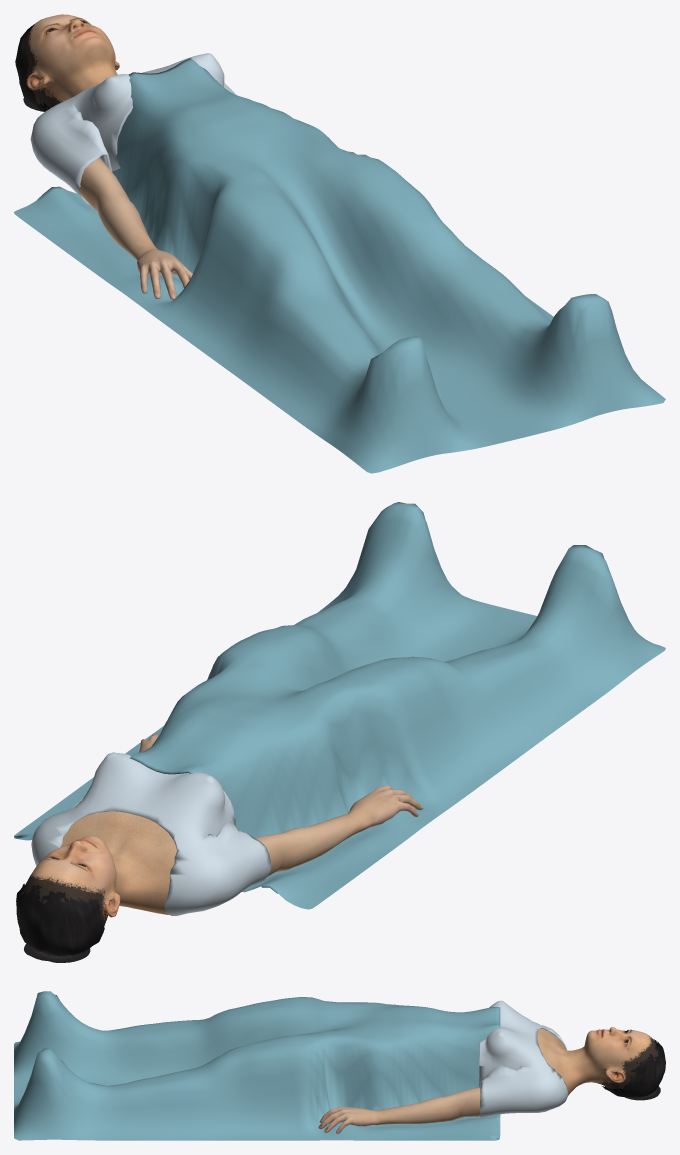
3 renders of one model, top to bottom at view 1: azimuth 30°, elevation 25°; view 2: azimuth 150°, elevation 25°; view 3: azimuth 270°, elevation 25°, orthographic. The views are drawn at different scales.
Visible parts, largest first — view 1: sheet, gown, body, arms, hair; view 2: sheet, gown, body, hair, arms; view 3: sheet, gown, body, arms, hair.
Part boxes in pixels (box(x1,y1,x2,y2)): sheet: box(14, 58, 665, 473); gown: box(30, 53, 235, 204); body: box(22, 14, 119, 108); arms: box(79, 157, 192, 299); hair: box(15, 24, 53, 111); sheet: box(14, 502, 665, 909); gown: box(31, 752, 270, 915); body: box(22, 811, 176, 925); hair: box(16, 882, 104, 962); arms: box(139, 733, 423, 876); sheet: box(14, 991, 500, 1140); gown: box(479, 1000, 568, 1117); body: box(537, 1027, 658, 1095); arms: box(318, 1087, 480, 1133); hair: box(602, 1039, 665, 1100).
Bounding box in the file's own units: 0.6406 × 0.2294 × 1.79.
Materials: 8 (6 with a texture image).
